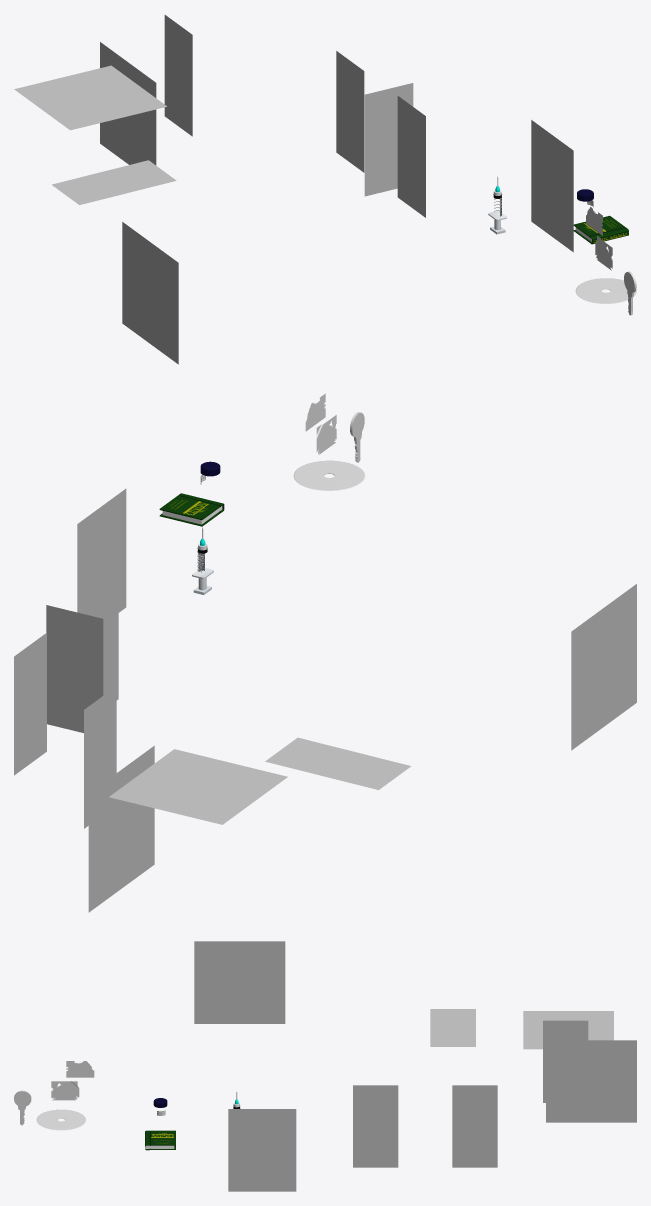
The model's file is Needle2.fbx.
3 renders of one model, top to bottom at view 1: azimuth 30°, elevation 25°; view 2: azimuth 150°, elevation 25°; view 3: azimuth 270°, elevation 25°, orthographic. The views are drawn at different scales.
Visible parts, largest first — view 1: shopping, CD, images, Needle.001, Key (2), extend left side, Needle, Photos, Bookscale, Bookscale.001, Cylinder, Cube; view 2: shopping, CD, Key (2), extend left side, Needle.001, images, Needle, Bookscale.001, Bookscale, Photos, Cylinder, Cube; view 3: shopping, images, Key (2), extend left side, Needle, Photos, Bookscale, CD, Bookscale.001, Cylinder, Cube, Plane, Plane.001.
Boxes of the visible parts, left/top/right/bottom form: shopping: left=122, top=222, right=178, bottom=364; CD: left=14, top=65, right=166, bottom=130; images: left=531, top=120, right=573, bottom=252; Needle.001: left=364, top=83, right=413, bottom=196; Key (2), extend left side: left=100, top=42, right=156, bottom=165; Needle: left=336, top=51, right=364, bottom=172; Photos: left=397, top=96, right=425, bottom=217; Bookscale: left=164, top=15, right=192, bottom=136; Bookscale.001: left=52, top=160, right=176, bottom=204; Cylinder: left=575, top=278, right=636, bottom=303; Cube: left=573, top=215, right=628, bottom=244; shopping: left=571, top=584, right=636, bottom=750; CD: left=109, top=749, right=287, bottom=824; Key (2), extend left side: left=88, top=745, right=154, bottom=912; Needle.001: left=46, top=605, right=103, bottom=732; images: left=77, top=488, right=126, bottom=614; Needle: left=14, top=633, right=46, bottom=775; Bookscale.001: left=265, top=737, right=411, bottom=789; Bookscale: left=84, top=686, right=116, bottom=828; Photos: left=86, top=580, right=118, bottom=700; Cylinder: left=293, top=460, right=365, bottom=490; Cube: left=159, top=493, right=224, bottom=526; shopping: left=194, top=941, right=285, bottom=1023; images: left=228, top=1109, right=296, bottom=1191; Key (2), extend left side: left=546, top=1040, right=636, bottom=1122; Needle: left=452, top=1085, right=497, bottom=1167; Photos: left=353, top=1085, right=398, bottom=1167; Bookscale: left=543, top=1020, right=588, bottom=1102; CD: left=523, top=1011, right=613, bottom=1049; Bookscale.001: left=430, top=1009, right=475, bottom=1046; Cylinder: left=36, top=1109, right=85, bottom=1130; Cube: left=145, top=1130, right=175, bottom=1150; Plane: left=51, top=1081, right=79, bottom=1100; Plane.001: left=66, top=1061, right=94, bottom=1077.
Size of the model in its own units: 431 by 147 by 685.
